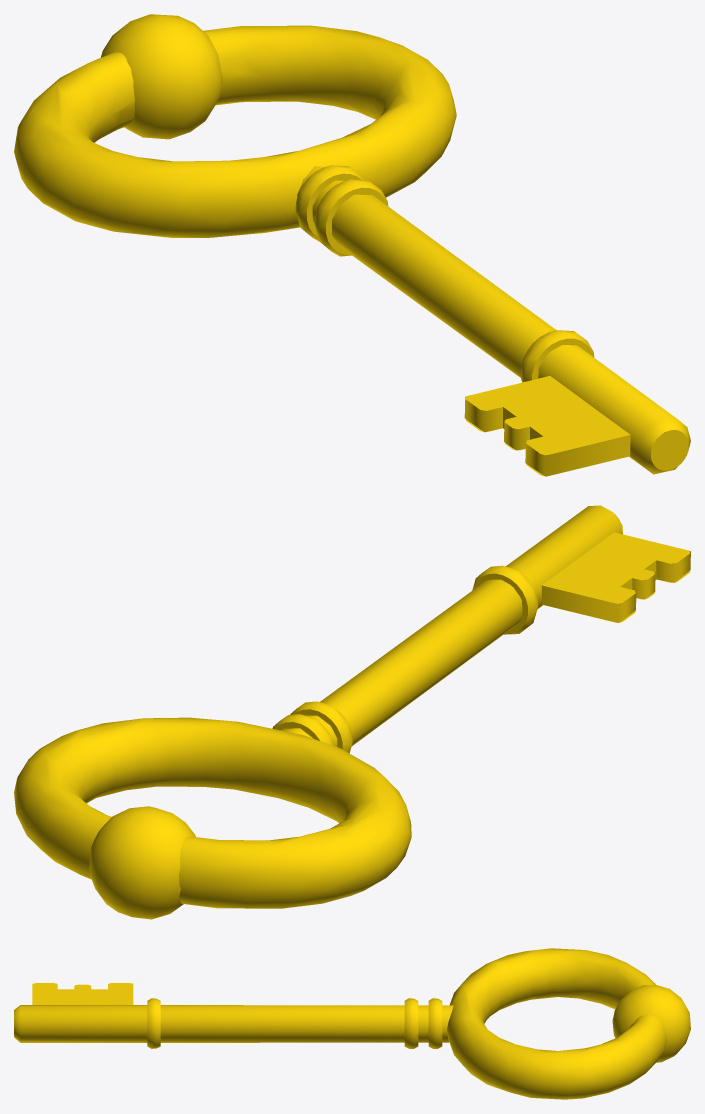
File: Key.fbx
3 renders of one model, top to bottom at view 1: azimuth 30°, elevation 25°; view 2: azimuth 150°, elevation 25°; view 3: azimuth 270°, elevation 25°, orthographic. The views are drawn at different scales.
Visible parts, largest first — view 1: key; view 2: key; view 3: key.
Boxes of the visible parts, x1,y1,x2,y2 form: key: (14, 14, 690, 476); key: (14, 505, 690, 919); key: (14, 948, 690, 1099).
Bounding box in the file's own units: 3.45 × 0.9298 × 8.
